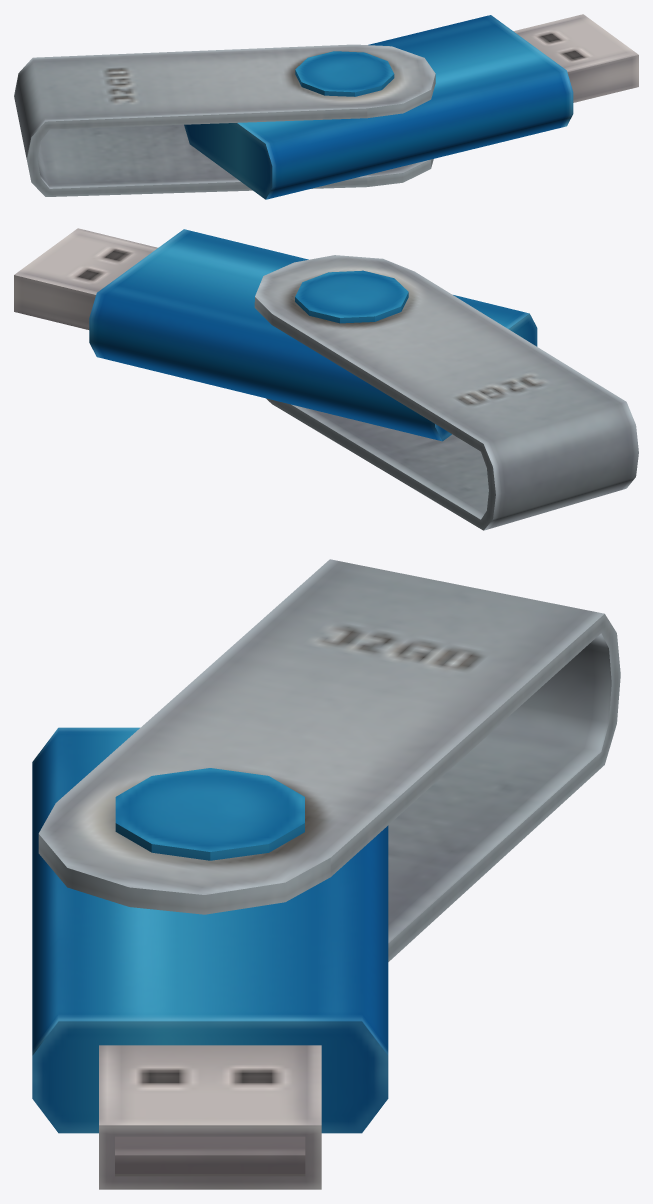
File: G_HuShiZhan_upan_01.FBX
3 views of the same model, one above another, from view 1: azimuth 30°, elevation 25°; view 2: azimuth 150°, elevation 25°; view 3: azimuth 270°, elevation 25° (orthographic). The views are drawn at different scales.
Visible parts, largest first — view 1: pCylinder15; view 2: pCylinder15; view 3: pCylinder15.
Boxes of the visible parts, left/top/right/bottom form: pCylinder15: left=14, top=14, right=638, bottom=199; pCylinder15: left=14, top=228, right=638, bottom=530; pCylinder15: left=32, top=559, right=620, bottom=1189.
Size of the model in its own units: 60.33 by 9.18 by 27.94.
